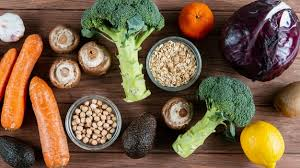aguacate: (122, 111, 158, 159)
